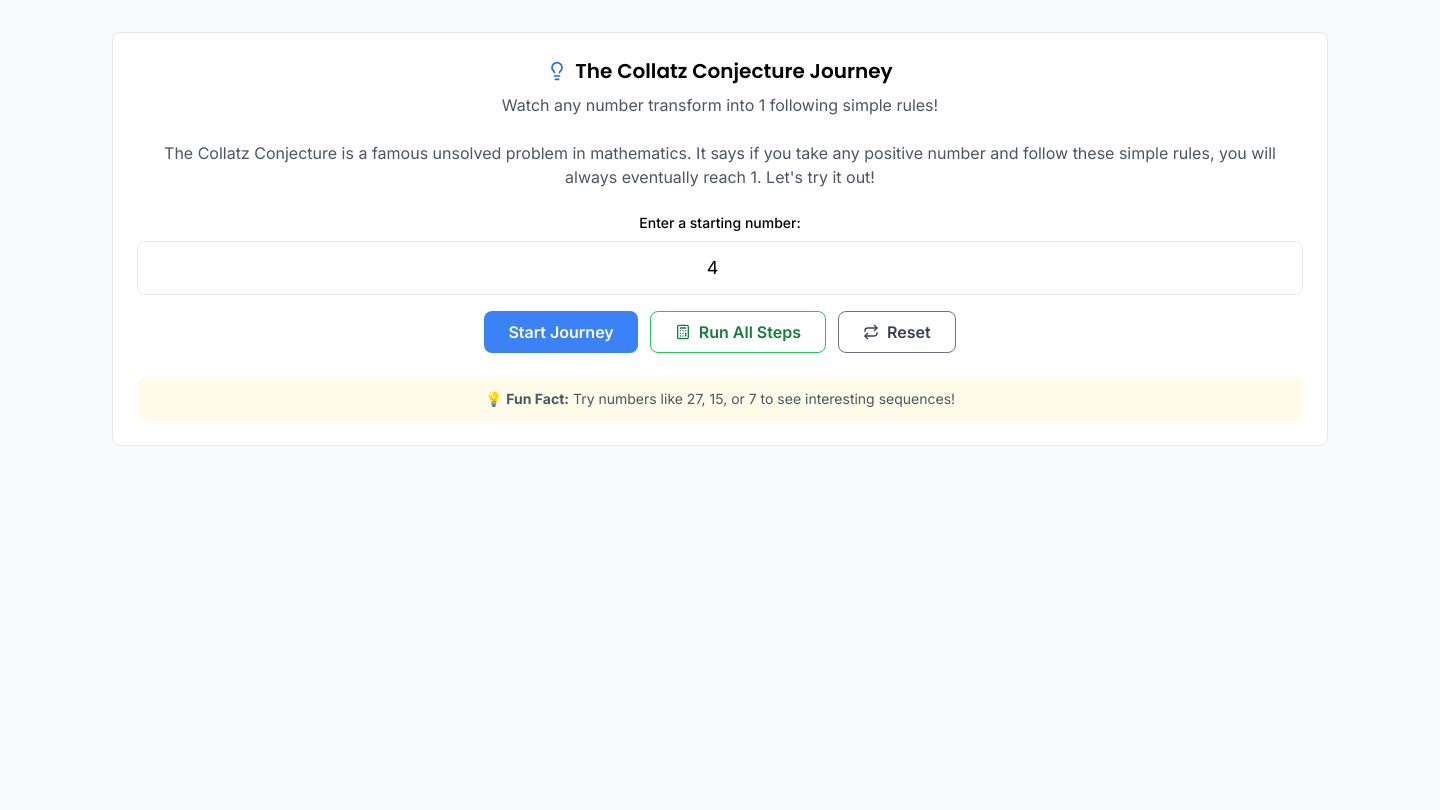
Test: CollatzVisualizer › calculates next step correctly for even numbers
Click the button "Start Journey": [561, 332] box [484,311,638,353]
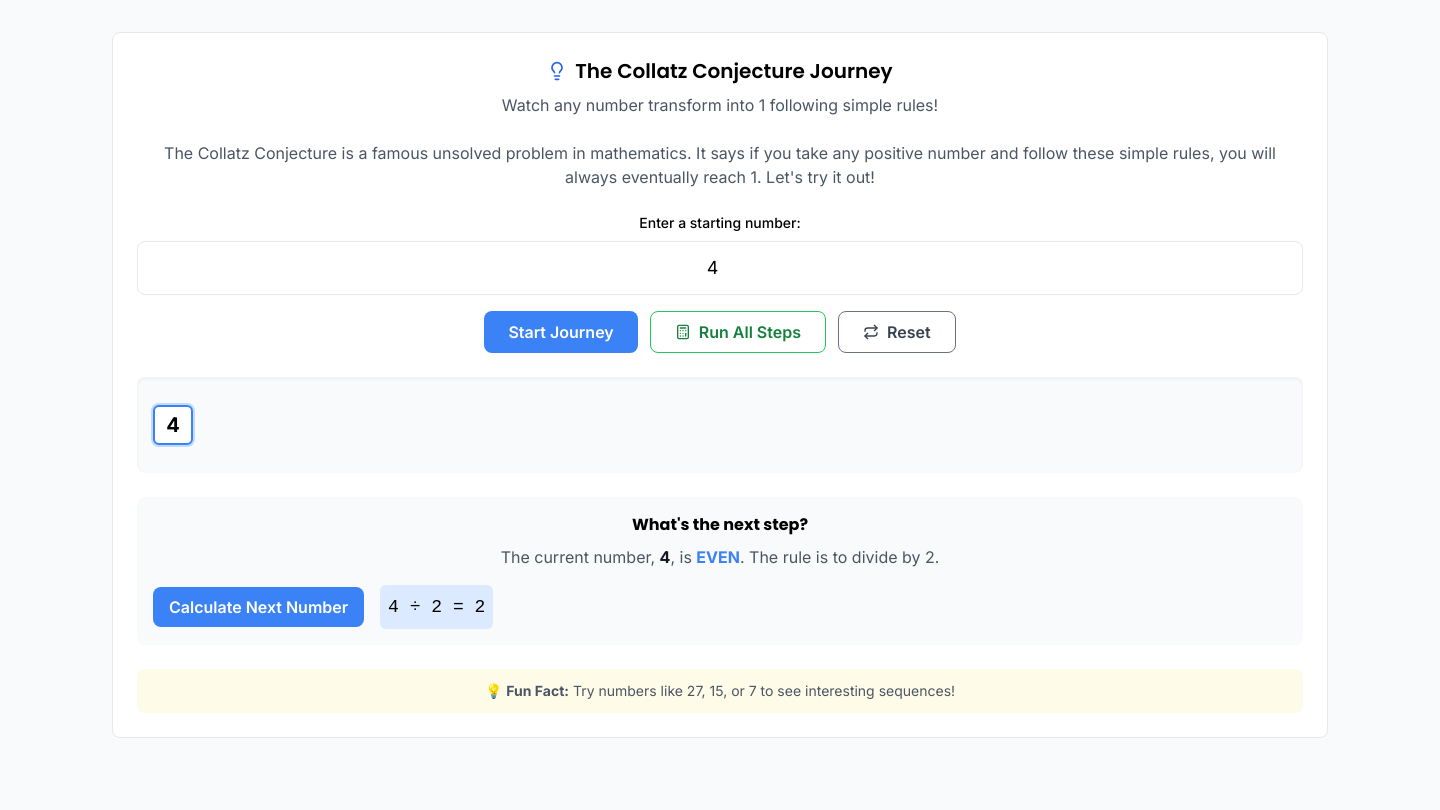
Click the button "Calculate Next Number": [259, 607] box [153,587,364,627]
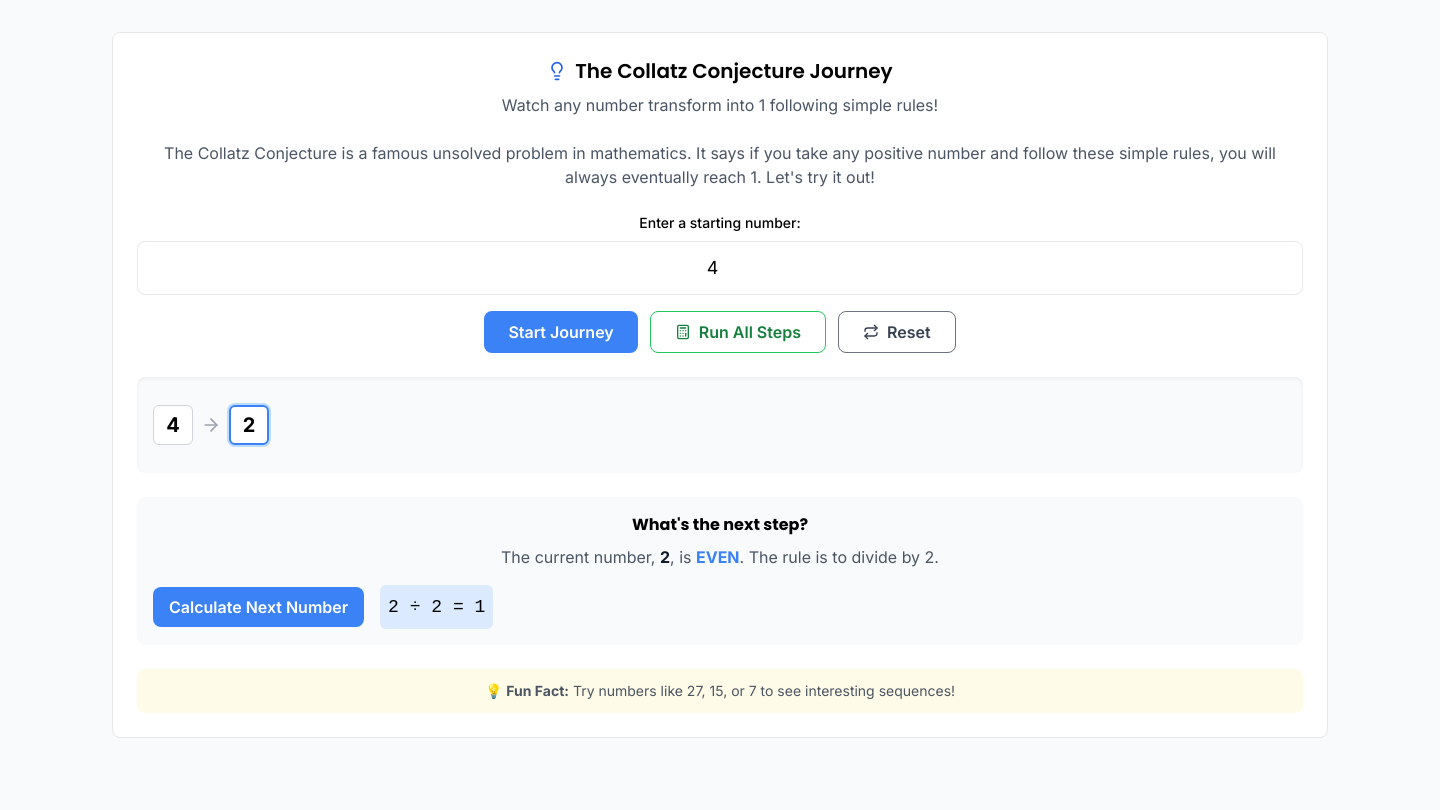
Expected: the text "4" shows "2", [243,413,255,437]
